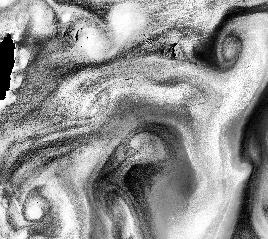CE: (10, 171, 66, 228), (216, 22, 250, 68)
